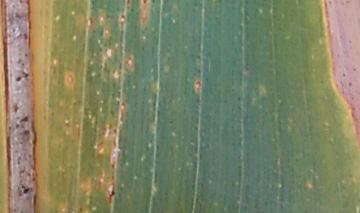tarspot: (20, 184, 30, 195), (22, 30, 29, 41), (15, 74, 21, 84), (194, 79, 202, 86), (141, 1, 149, 6), (126, 1, 132, 6), (150, 1, 156, 4)
